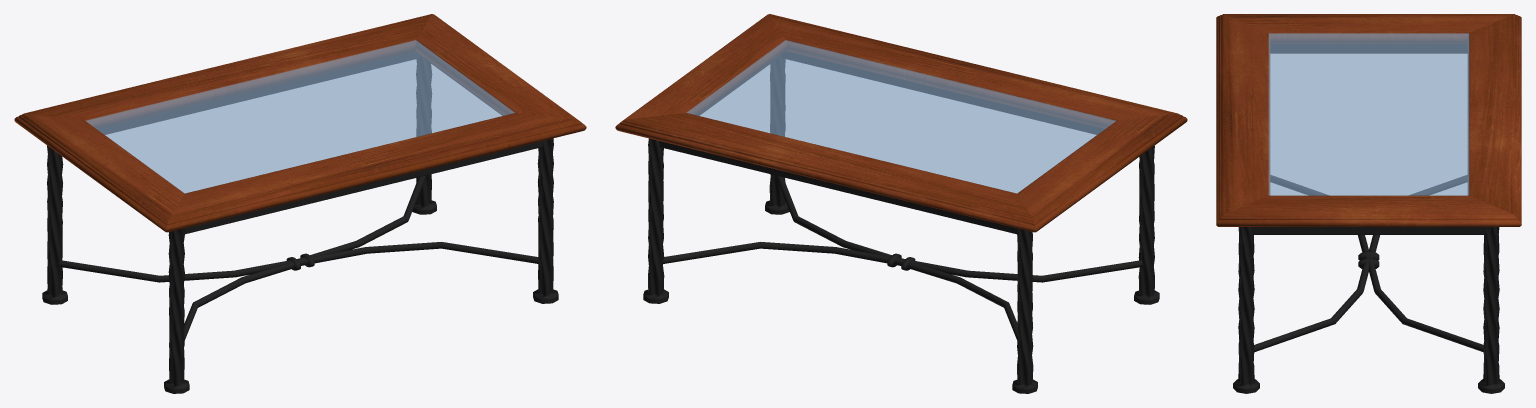
File: livingroom_table.obj
3 views of the same model, side by side, from view 1: azimuth 30°, elevation 25°; view 2: azimuth 150°, elevation 25°; view 3: azimuth 270°, elevation 25° (orthographic).
Visible parts, largest first — view 1: woodenframe_Plane.001, glass_Cube, ironbase_Cylinder.002; view 2: woodenframe_Plane.001, glass_Cube, ironbase_Cylinder.002; view 3: woodenframe_Plane.001, glass_Cube, ironbase_Cylinder.002.
Boxes of the visible parts, x1=… form: woodenframe_Plane.001: x1=14, y1=14, x2=586, y2=232; glass_Cube: x1=86, y1=40, x2=515, y2=193; ironbase_Cylinder.002: x1=42, y1=51, x2=558, y2=393; woodenframe_Plane.001: x1=615, y1=14, x2=1187, y2=232; glass_Cube: x1=686, y1=40, x2=1115, y2=193; ironbase_Cylinder.002: x1=643, y1=51, x2=1159, y2=393; woodenframe_Plane.001: x1=1216, y1=14, x2=1521, y2=226; glass_Cube: x1=1268, y1=33, x2=1469, y2=195; ironbase_Cylinder.002: x1=1233, y1=44, x2=1504, y2=393.
Size of the model in its own units: 121 by 50.26 by 75.86.
Materials: 3 (1 with a texture image).
